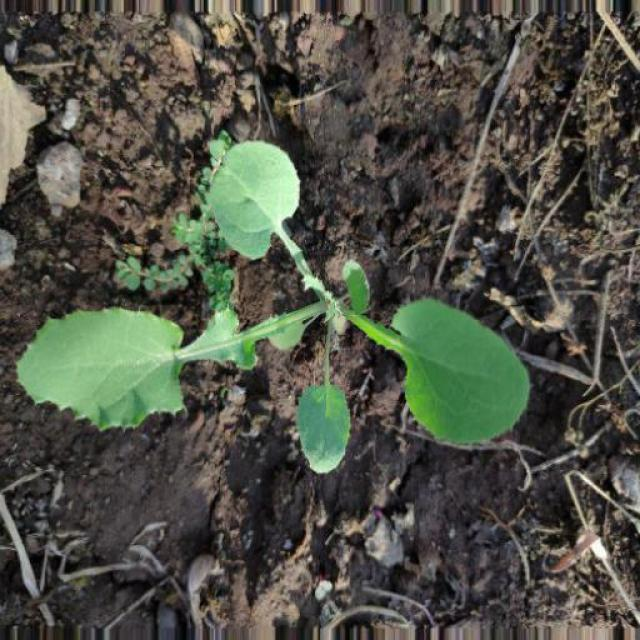weed: (15, 140, 531, 474)
